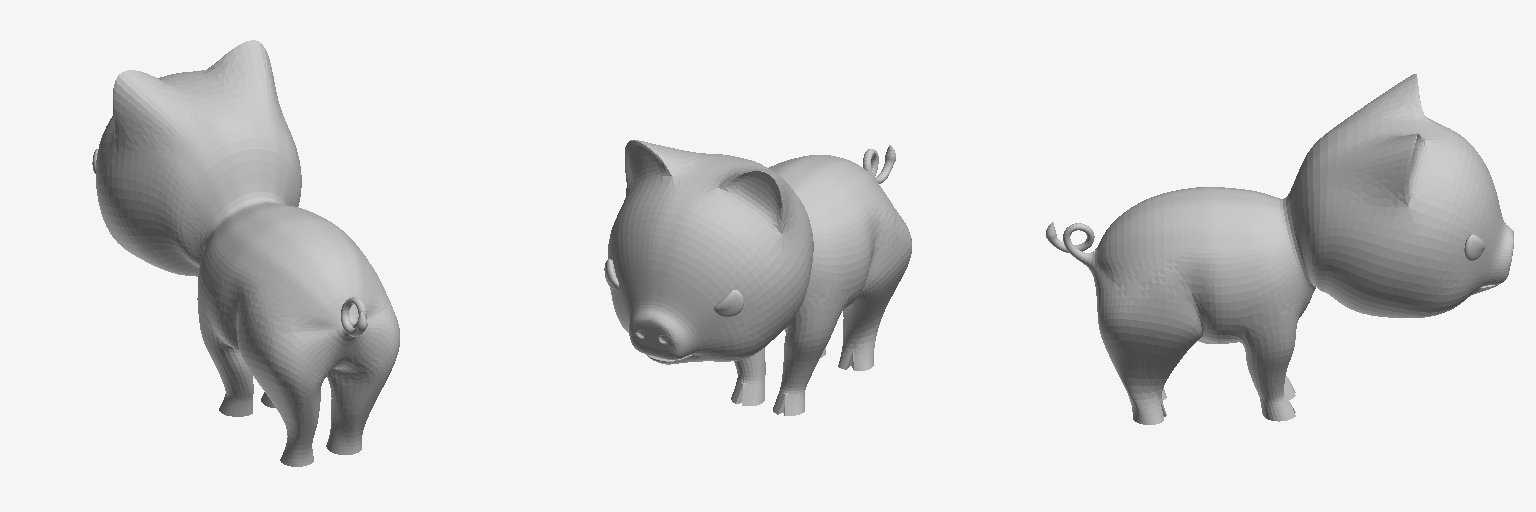
File: CartoonPig4-bl.obj
3 renders of one model, left to right at view 1: azimuth 30°, elevation 25°; view 2: azimuth 150°, elevation 25°; view 3: azimuth 270°, elevation 25°, orthographic.
Visible parts, largest first — view 1: Pig.001; view 2: Pig.001; view 3: Pig.001.
Part boxes in pixels (left/top/right/bottom): Pig.001: left=92, top=40, right=399, bottom=466; Pig.001: left=604, top=140, right=911, bottom=415; Pig.001: left=1046, top=74, right=1513, bottom=424.
Size of the model in its own units: 2.09 by 3.41 by 4.82.